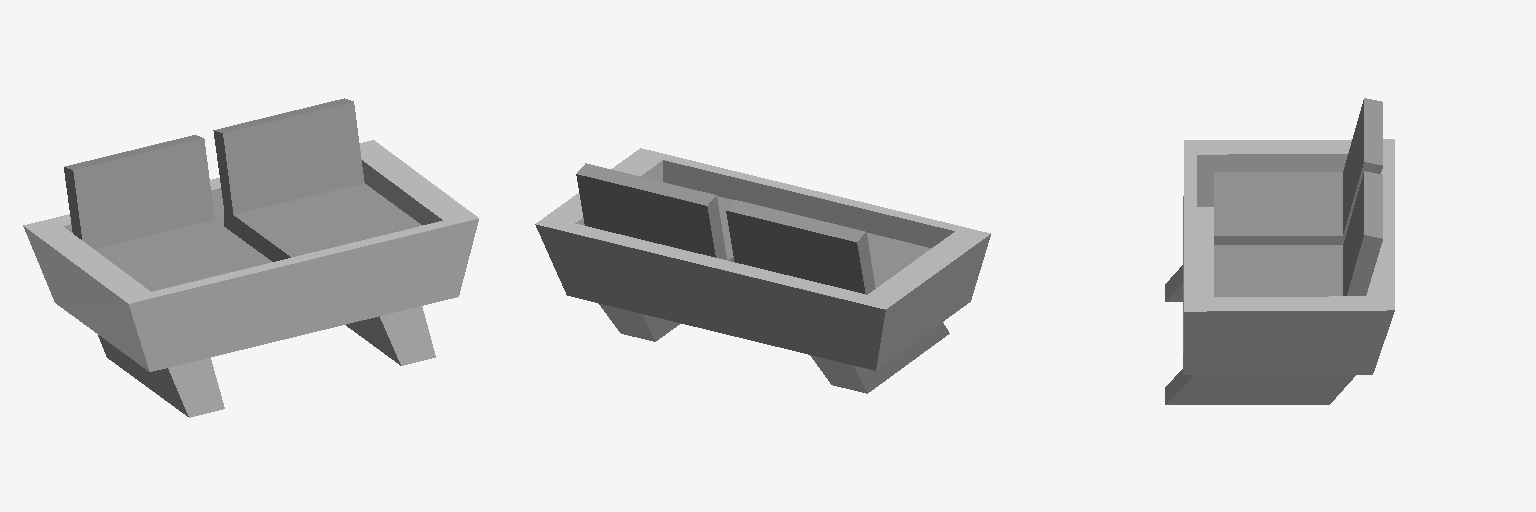
Rendered from coaster_d_c.obj.
3 renders of one model, left to right at view 1: azimuth 30°, elevation 25°; view 2: azimuth 150°, elevation 25°; view 3: azimuth 270°, elevation 25°, orthographic.
Visible parts, largest first — view 1: Cube.002, Cube1; view 2: Cube1, Cube.002; view 3: Cube.002, Cube1.
Part boxes in pixels (bbox=[...]): Cube.002: bbox=[64, 98, 435, 417]; Cube1: bbox=[23, 140, 478, 371]; Cube1: bbox=[535, 148, 990, 370]; Cube.002: bbox=[576, 163, 949, 393]; Cube.002: bbox=[1165, 98, 1382, 404]; Cube1: bbox=[1183, 139, 1394, 374].
Size of the model in its own units: 2.68 by 1.31 by 1.53.